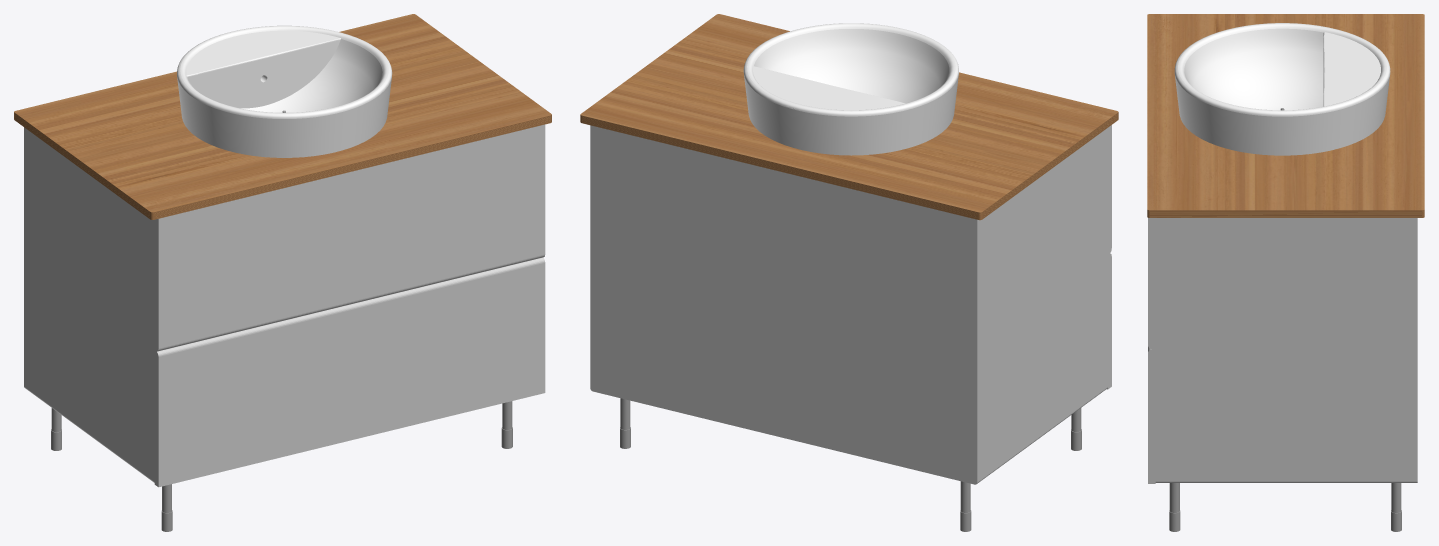
Rendered from sink_1.glb.
3 views of the same model, side by side, from view 1: azimuth 30°, elevation 25°; view 2: azimuth 150°, elevation 25°; view 3: azimuth 270°, elevation 25° (orthographic).
Visible parts, largest first — view 1: IKE160241; view 2: IKE160241; view 3: IKE160241.
Part boxes in pixels (left/top/right/bottom): IKE160241: left=14, top=14, right=551, bottom=531; IKE160241: left=580, top=14, right=1118, bottom=531; IKE160241: left=1147, top=14, right=1424, bottom=531.
Bounding box in the file's own units: 82 × 73.94 × 49.
Materials: 4 (1 with a texture image).
